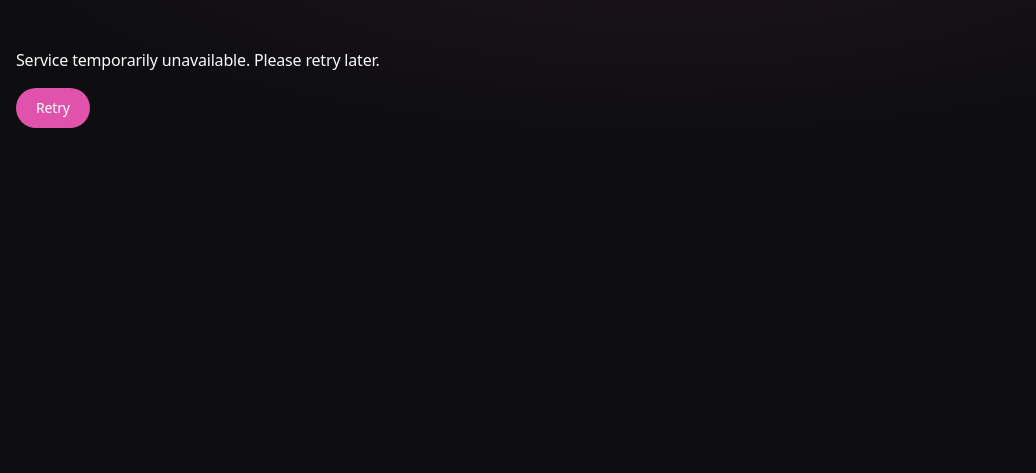
Scenario: 503 on restoration shows retry and recovers without clearing bootstrap or event proof
Check: the message "Service temporarily unavailable. Please retry later. Retry" is shown, box [16, 49, 380, 128]
Check: the text "Service temporarily unavailable. Please retry later." is shown, box [16, 49, 380, 71]
Click the button "Retry". click: (53, 108)
box: [16, 88, 90, 128]
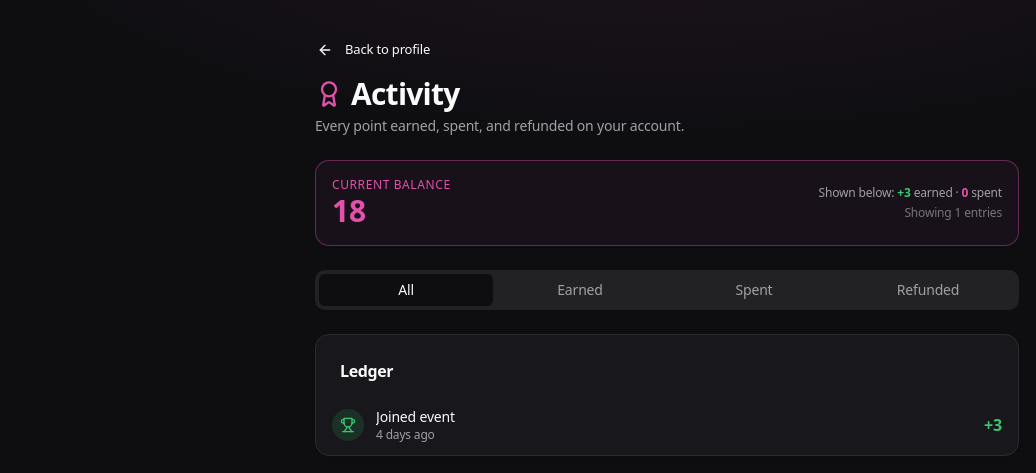
Check: the text "Joined event" is shown, box [376, 407, 455, 427]
